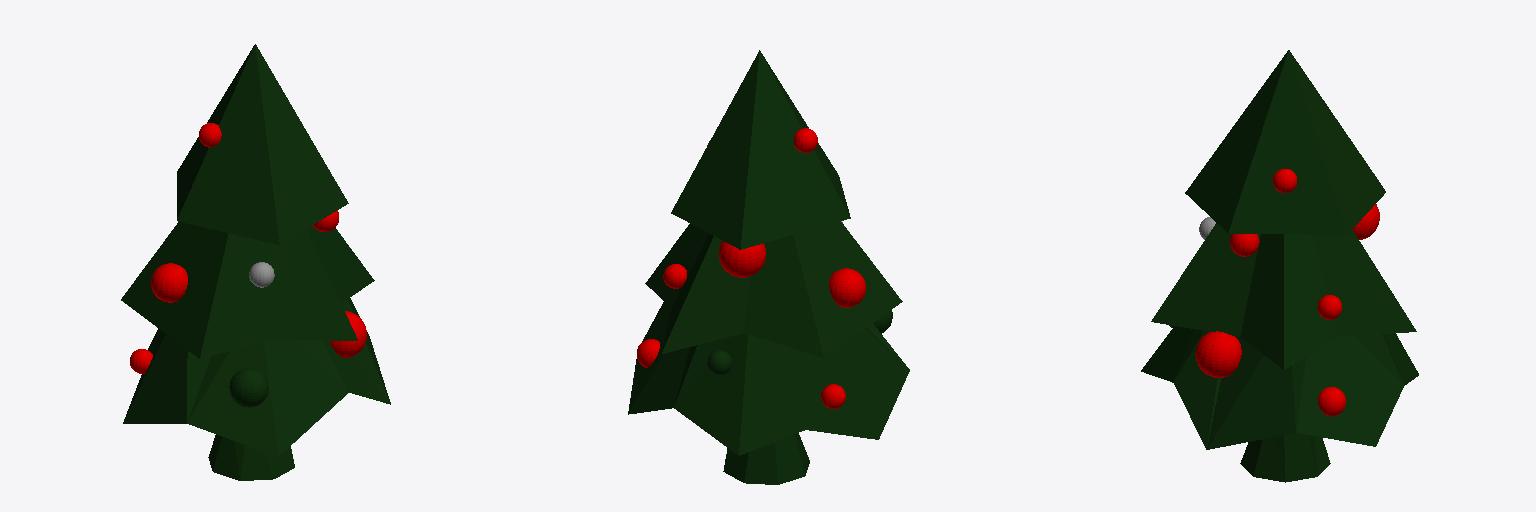
The model's file is christmas_tree.obj.
3 renders of one model, left to right at view 1: azimuth 30°, elevation 25°; view 2: azimuth 150°, elevation 25°; view 3: azimuth 270°, elevation 25°, orthographic.
Parts seen in each view (by area): view 1: pPyramid2, pPyramid3, pPyramid4, pCylinder1, pasted__pasted__pasted__pSphere1 pasted__pasted__group3 pasted__, pasted__pasted__pSphere1 pasted__group3 group5, pSphere1; view 2: pPyramid4, pPyramid2, pPyramid3, pCylinder1, pasted__pSphere1 group2, pasted__pasted__pSphere1 pasted__group3 group5, pasted__pasted__pasted__pSphere1 pasted__pasted__group3 pasted__; view 3: pPyramid2, pPyramid3, pPyramid4, pCylinder1, pSphere1, pasted__pasted__pSphere1 pasted__group group8, pasted__pSphere1 group, pasted__pSphere1 group2.
Boxes of the visible parts, x1=… form: pPyramid2: x1=121, y1=222, x2=374, y2=358; pPyramid3: x1=177, y1=44, x2=348, y2=244; pPyramid4: x1=123, y1=298, x2=390, y2=456; pCylinder1: x1=208, y1=434, x2=294, y2=480; pasted__pasted__pasted__pSphere1 pasted__pasted__group3 pasted__: x1=130, y1=349, x2=268, y2=407; pasted__pasted__pSphere1 pasted__group3 group5: x1=151, y1=263, x2=187, y2=302; pSphere1: x1=329, y1=311, x2=366, y2=357; pPyramid4: x1=628, y1=302, x2=909, y2=455; pPyramid2: x1=645, y1=221, x2=902, y2=357; pPyramid3: x1=671, y1=50, x2=850, y2=249; pCylinder1: x1=723, y1=433, x2=809, y2=484; pasted__pSphere1 group2: x1=719, y1=241, x2=765, y2=277; pasted__pasted__pSphere1 pasted__group3 group5: x1=829, y1=268, x2=865, y2=307; pasted__pasted__pasted__pSphere1 pasted__pasted__group3 pasted__: x1=821, y1=310, x2=892, y2=408; pPyramid2: x1=1151, y1=223, x2=1416, y2=369; pPyramid3: x1=1185, y1=50, x2=1385, y2=234; pPyramid4: x1=1141, y1=326, x2=1418, y2=449; pCylinder1: x1=1240, y1=433, x2=1330, y2=482; pSphere1: x1=1195, y1=331, x2=1241, y2=377; pasted__pasted__pSphere1 pasted__group group8: x1=1318, y1=387, x2=1345, y2=416; pasted__pSphere1 group: x1=1230, y1=234, x2=1259, y2=256; pasted__pSphere1 group2: x1=1352, y1=204, x2=1379, y2=239.
Bounding box in the file's own units: 1.34 × 2.18 × 1.33.